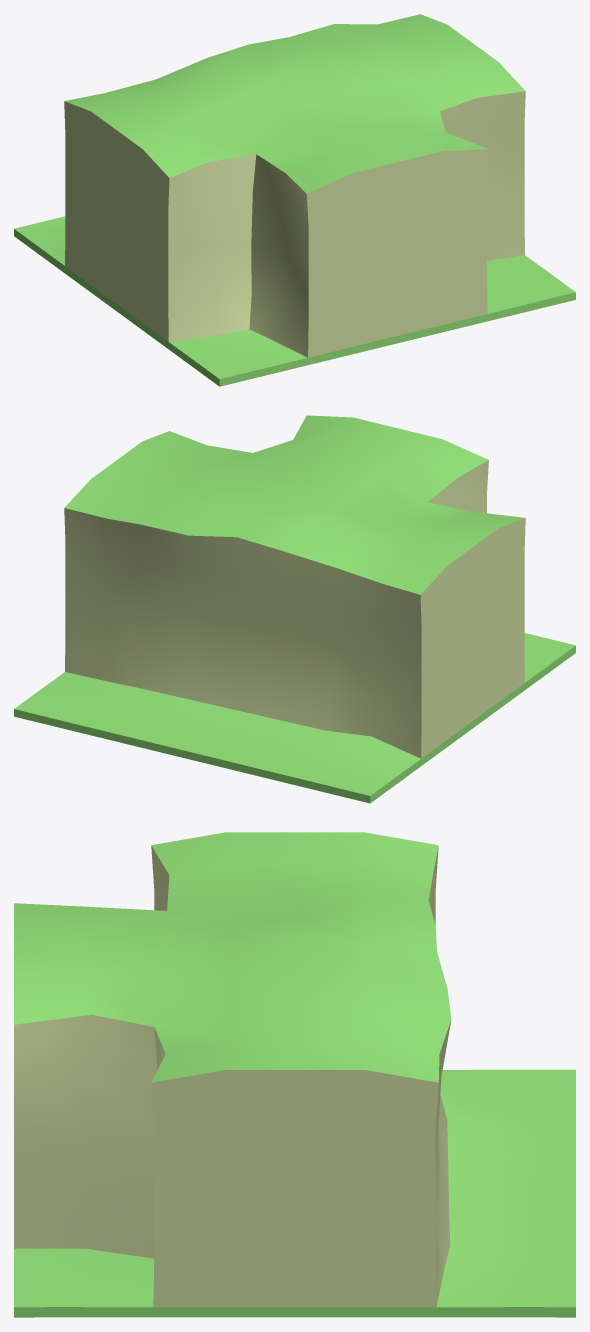
The model's file is wall_slim_join3_1.glb.
The picture shows the model from 3 angles, top to bottom: view 1: azimuth 30°, elevation 25°; view 2: azimuth 150°, elevation 25°; view 3: azimuth 270°, elevation 25°; orthographic projection. The views are drawn at different scales.
Visible parts, largest first — view 1: wall_slim_join3_1; view 2: wall_slim_join3_1; view 3: wall_slim_join3_1.
Part boxes in pixels (<box>): wall_slim_join3_1: <box>14,14,575,386</box>; wall_slim_join3_1: <box>14,415,575,803</box>; wall_slim_join3_1: <box>14,832,575,1317</box>.
Size of the model in its own units: 2 by 1.04 by 2.
